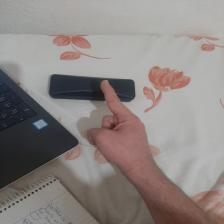one: (90, 75, 151, 168)
